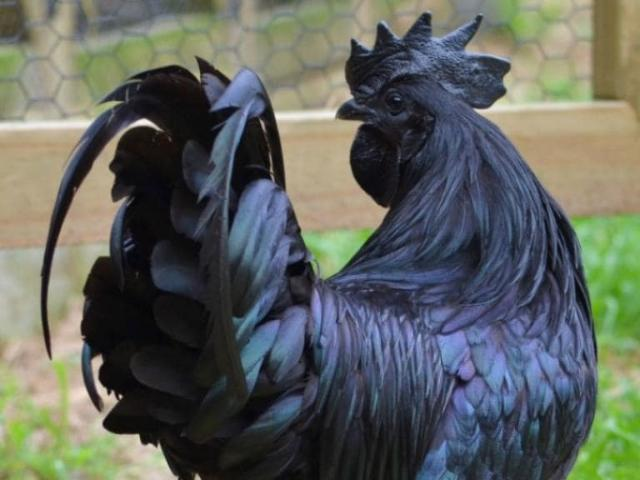Chicken: (41, 8, 597, 480)
